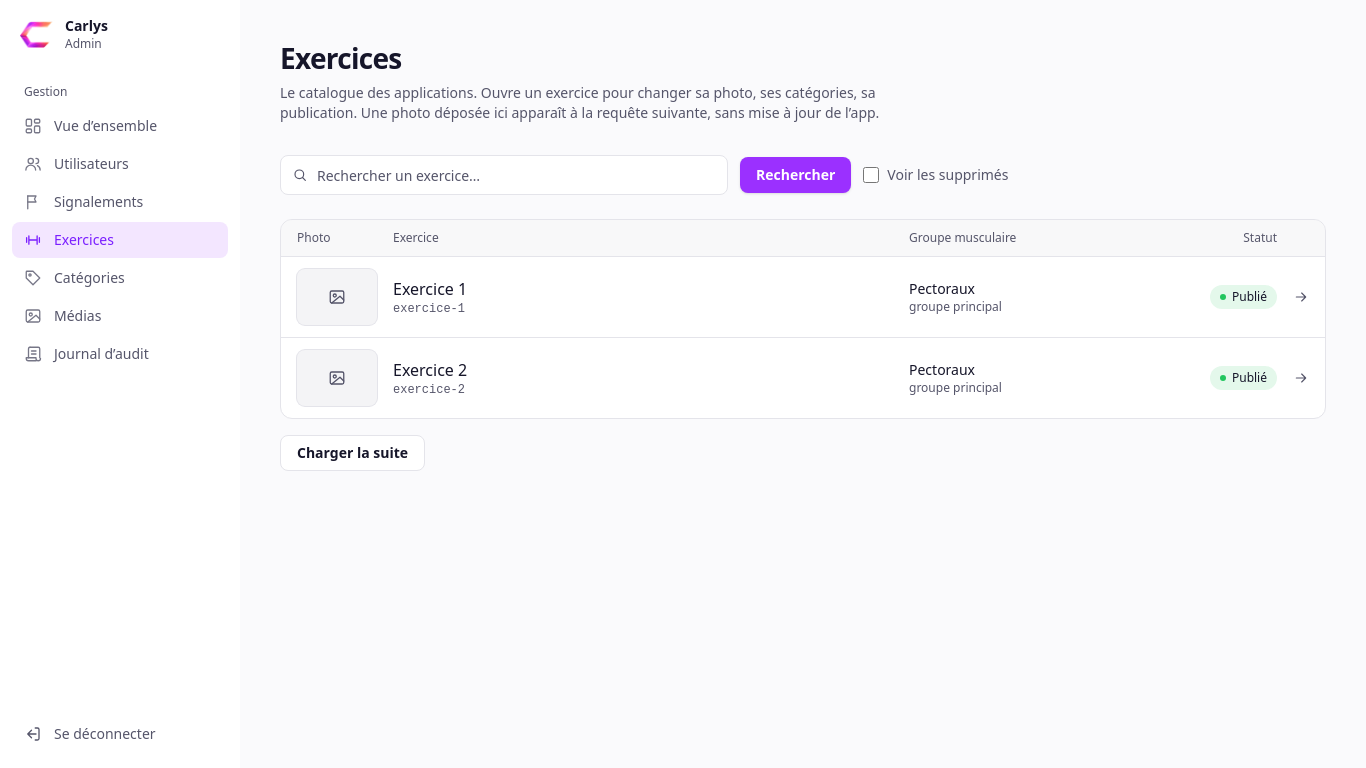
Test: Page Exercices › « Charger la suite » va chercher la page suivante et l’ajoute au tableau
Check: the text "Exercice 1" is shown, box x1=393 y1=278 x2=467 y2=300
Click the button "Charger la suite" at (353, 453), box x1=280 y1=435 x2=425 y2=471
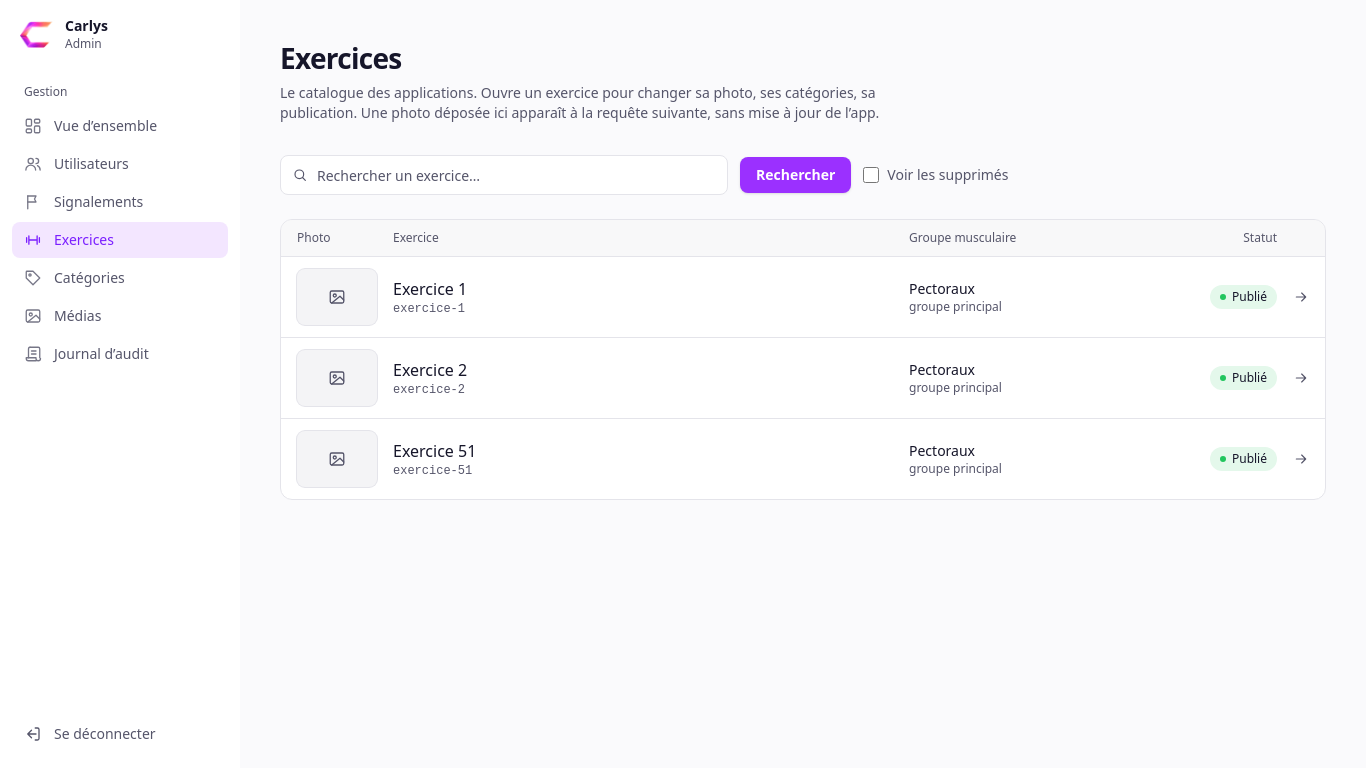
Check: the text "Exercice 1" is shown, box x1=393 y1=278 x2=467 y2=300
Check: the text "Exercice 51" is shown, box x1=393 y1=440 x2=476 y2=462
Check: the button "Charger la suite" is gone
